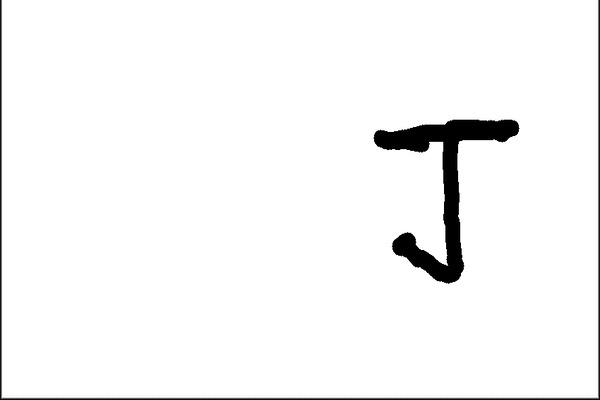J: (366, 111, 525, 288)
